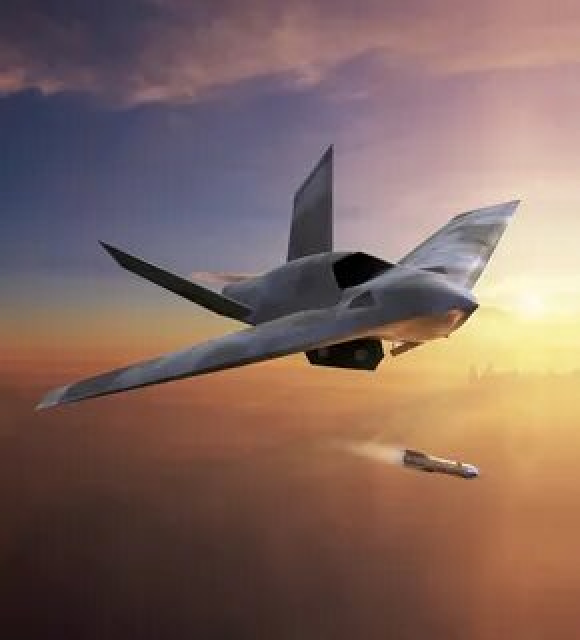military drone: (33, 143, 521, 411)
